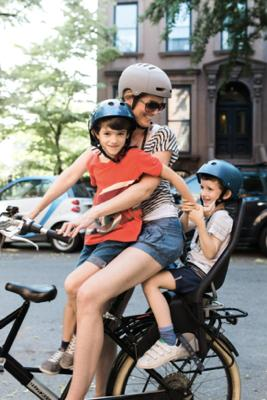With Helmet: (116, 61, 174, 129), (88, 100, 136, 155), (198, 158, 244, 209)
